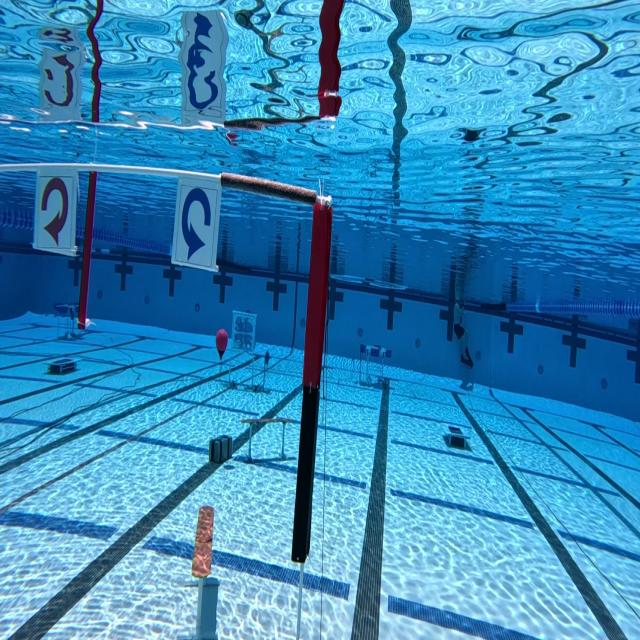blue_side: (178, 180, 214, 270)
red_side: (35, 174, 76, 254)
